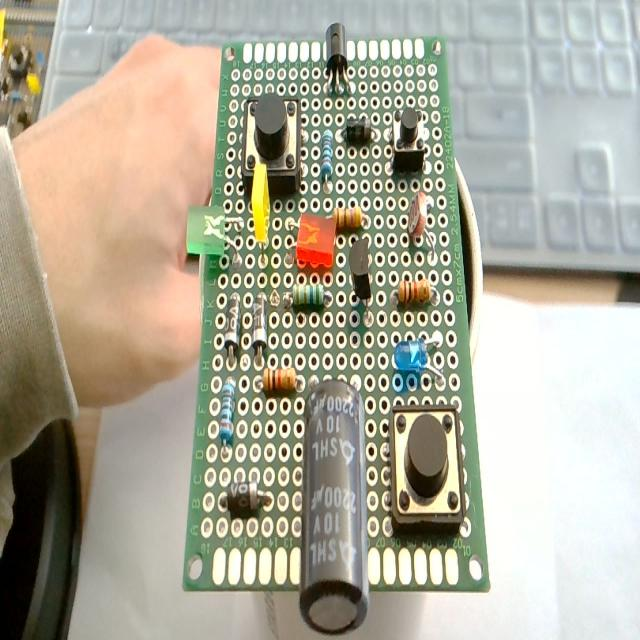Electrolytic capacitor: (300, 379, 368, 637)
cds: (407, 192, 437, 254)
diode: (219, 478, 275, 518), (223, 293, 240, 364), (252, 295, 268, 364), (342, 116, 372, 145)
led: (393, 333, 444, 386), (296, 212, 336, 272), (184, 203, 227, 258), (252, 162, 270, 243)
resistor: (219, 380, 237, 445), (264, 367, 297, 394), (398, 277, 431, 304), (292, 282, 323, 307), (320, 129, 333, 184), (334, 206, 362, 229)
switch: (388, 402, 464, 534), (242, 93, 302, 199), (391, 106, 426, 173)
transistor: (348, 234, 373, 324), (324, 20, 350, 91)
